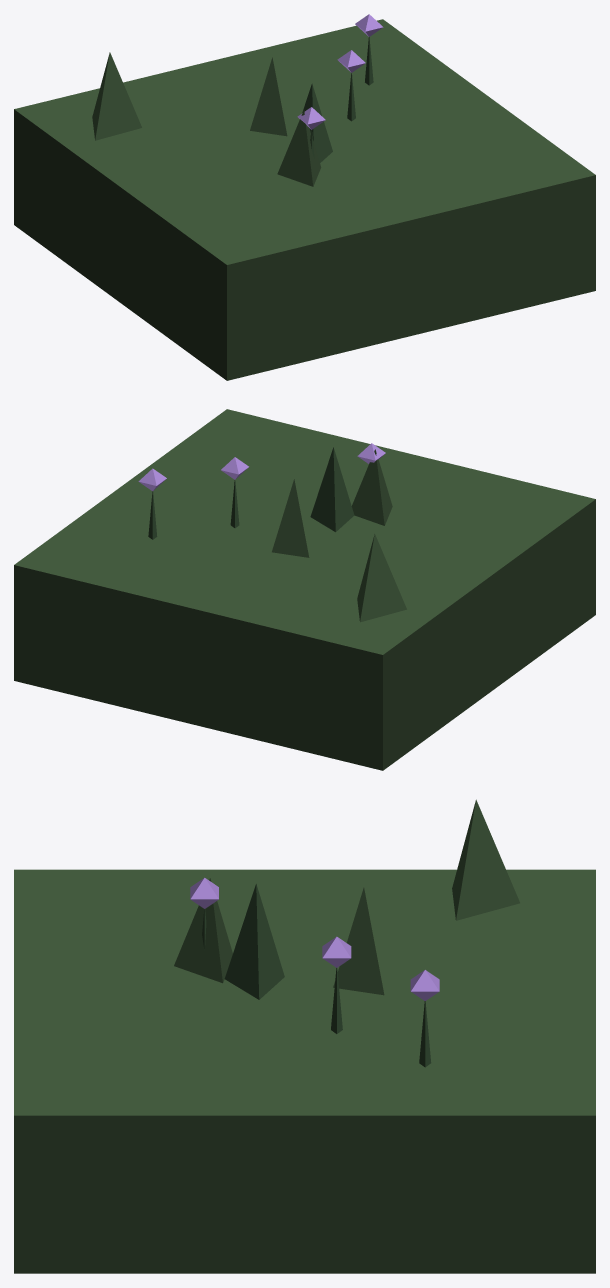
File: f_clear_b.glb
3 views of the same model, one above another, from view 1: azimuth 30°, elevation 25°; view 2: azimuth 150°, elevation 25°; view 3: azimuth 270°, elevation 25° (orthographic). The views are drawn at different scales.
Parts seen in each view (by area): view 1: f_clear_b; view 2: f_clear_b; view 3: f_clear_b.
Boxes of the visible parts, x1,y1,x2,y2 form: f_clear_b: (14, 14, 595, 380); f_clear_b: (14, 409, 595, 770); f_clear_b: (14, 799, 595, 1273).
Bounding box in the file's own units: 1 × 0.4991 × 1.
